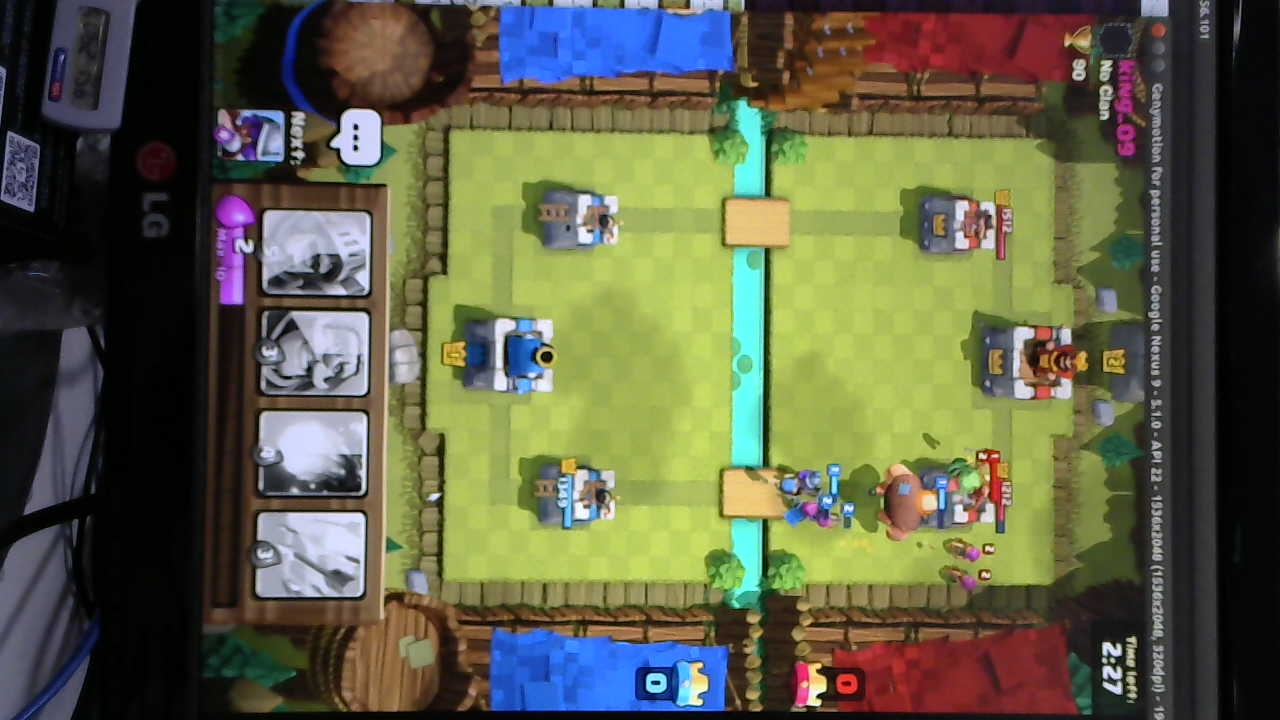archers: (942, 533, 988, 591), (783, 501, 849, 531)
arena: (537, 461, 620, 526), (540, 191, 623, 249)
bomb: (768, 470, 805, 500)
dragon: (936, 462, 1001, 496)
earena: (922, 195, 999, 257), (938, 464, 1000, 525)
eking: (971, 321, 1081, 401)
giant: (876, 460, 936, 543)
king: (459, 313, 561, 398)
musketeer: (794, 464, 829, 499)
